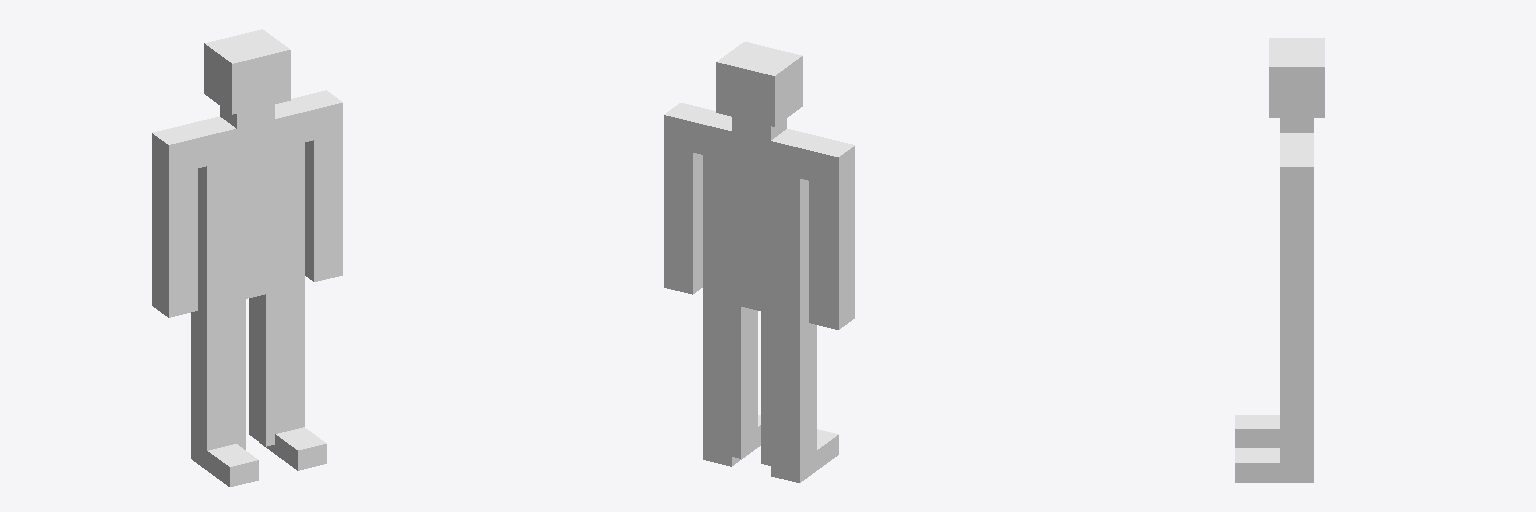
File: Person.obj
3 renders of one model, left to right at view 1: azimuth 30°, elevation 25°; view 2: azimuth 150°, elevation 25°; view 3: azimuth 270°, elevation 25°, orthographic.
Visible parts, largest first — view 1: object 1; view 2: object 1; view 3: object 1.
Part boxes in pixels (x1,y1,x2,y2): object 1: (152, 29, 342, 486); object 1: (664, 42, 854, 482); object 1: (1235, 38, 1324, 482).
Size of the model in its own units: 1.8 by 4 by 0.8.